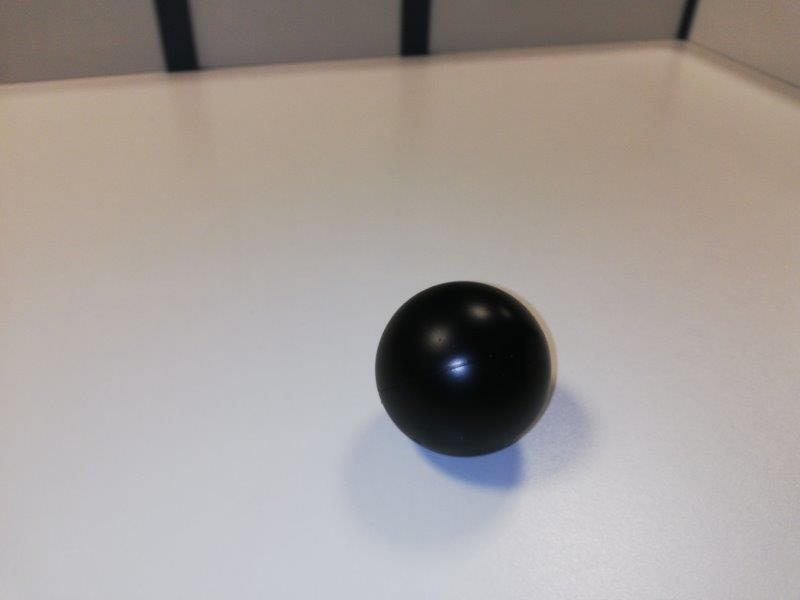nera: (375, 279, 551, 459)
